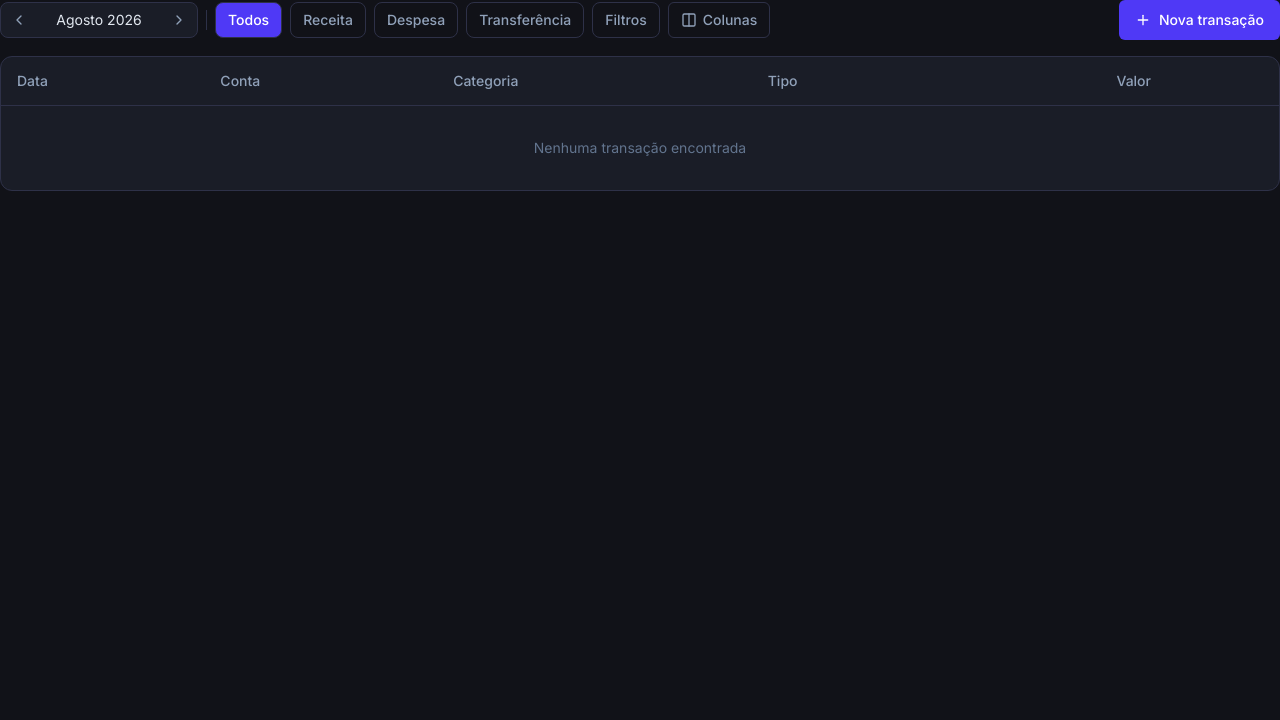
Transactions › abre dialog ao clicar em "Nova transação"
The width and height of the screenshot is (1280, 720).
What coordinates should you click on to do the following:
click the button "Nova transação"
I would click on:
 (1200, 20)
Its box is [1119, 0, 1279, 40].
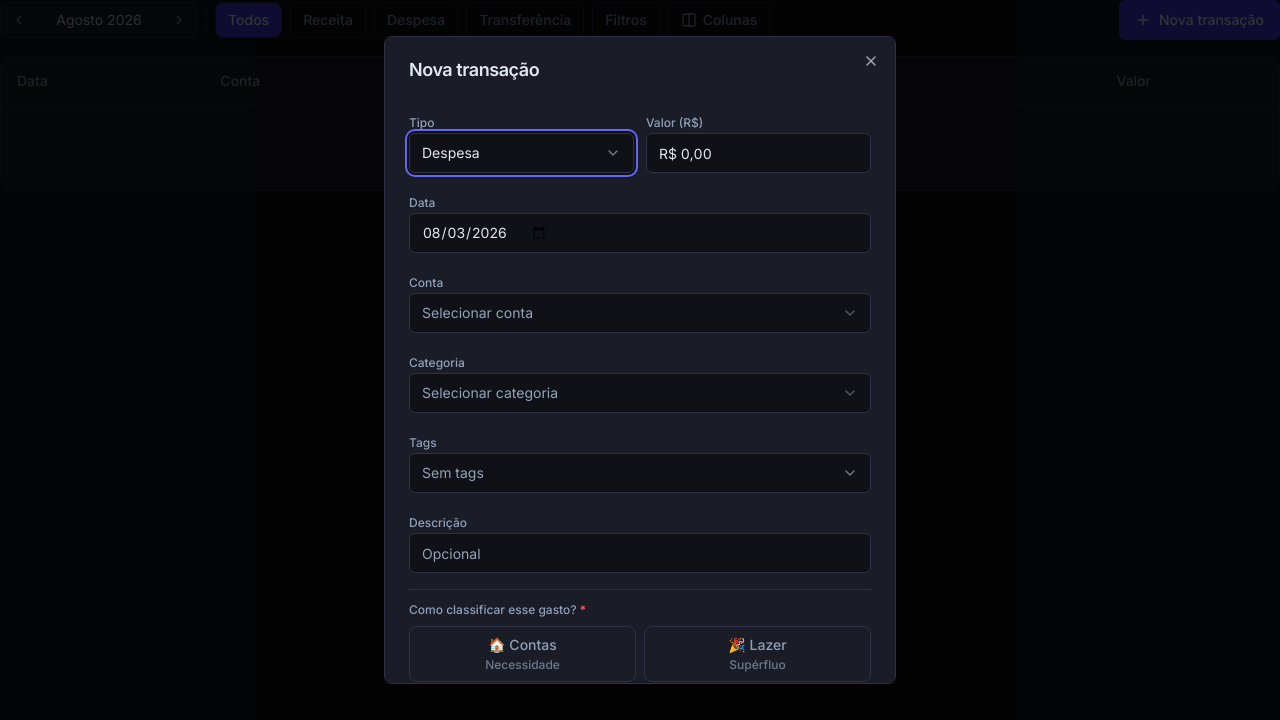
Result: the dialog is shown at [384, 36, 896, 684]
